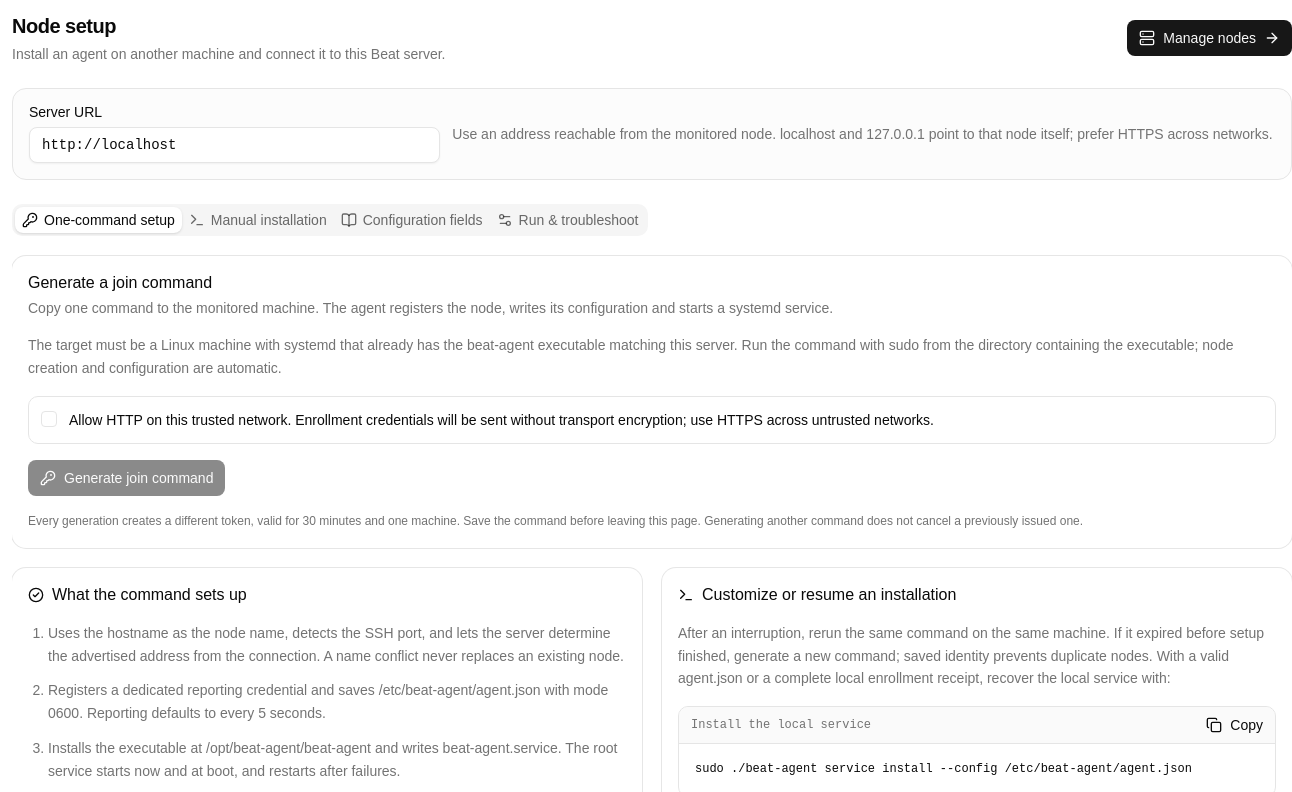
Test: agent setup guide › guides operators through existing node creation and config-based enrollment
The image size is (1292, 792).
Click the tab "Manual installation" at x=258, y=220, box x1=182 y1=207 x2=334 y2=233
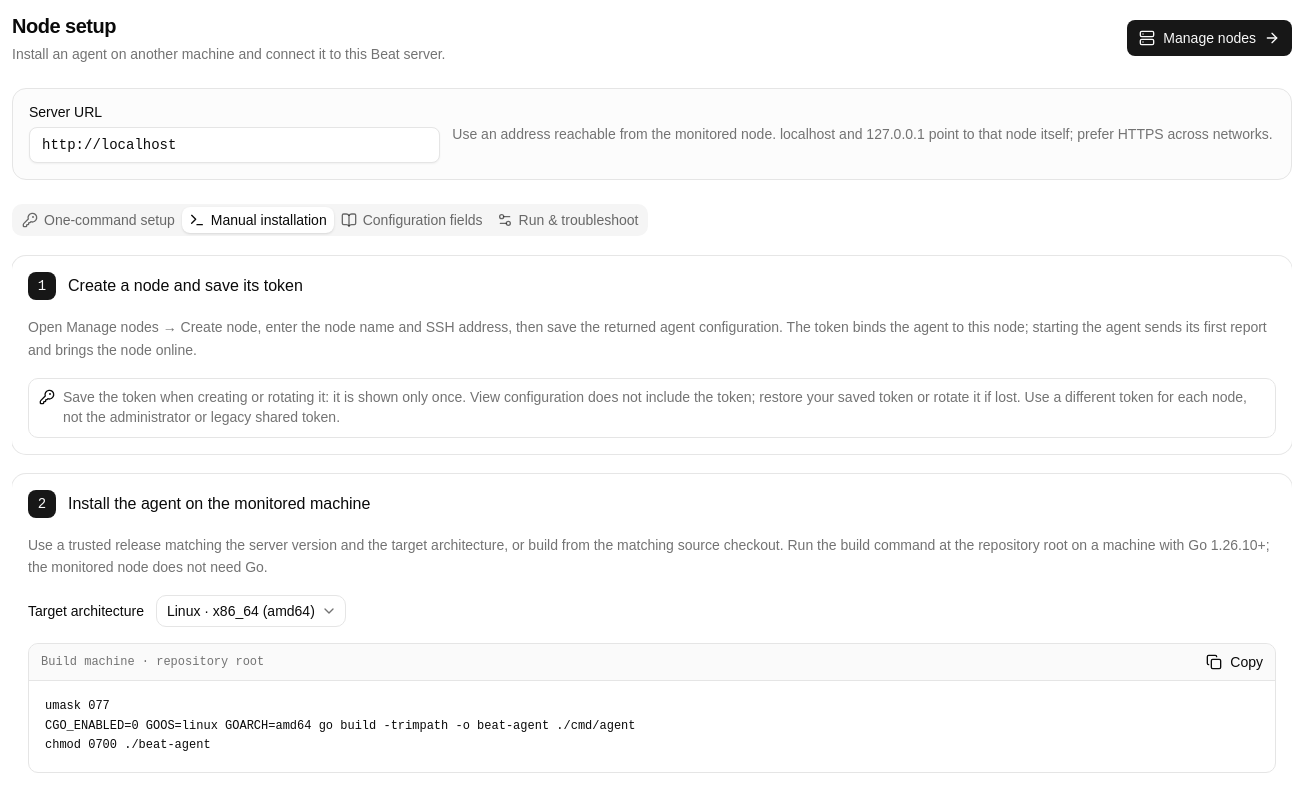
Expected: the heading "Node setup" is shown, x1=12 y1=15 x2=116 y2=37
Expected: the text "Save the token when creating" is shown, x1=63 y1=388 x2=1247 y2=424
Expected: the text "Go 1.26.10" is shown, x1=28 y1=536 x2=1270 y2=575
